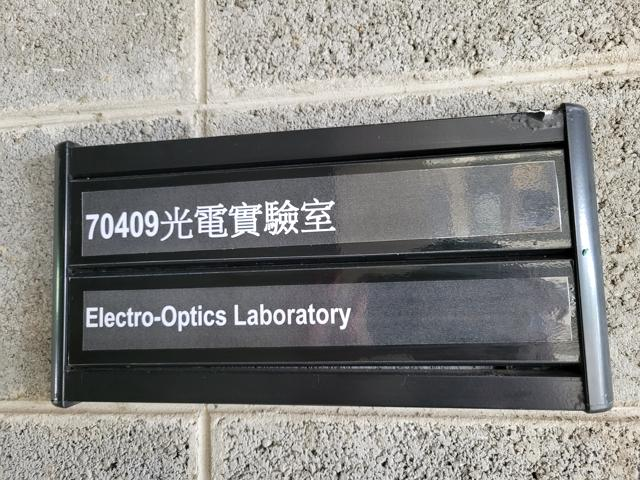doorplate: (43, 93, 616, 421)
